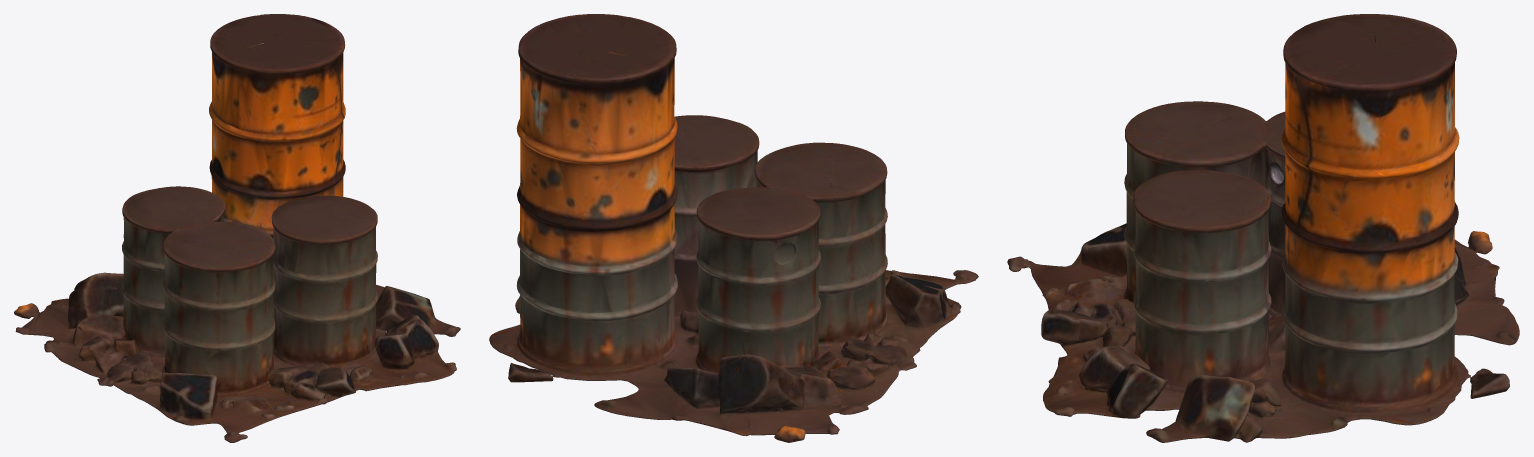
File: barrel-stack.glb
The picture shows the model from 3 angles, left to right: view 1: azimuth 30°, elevation 25°; view 2: azimuth 150°, elevation 25°; view 3: azimuth 270°, elevation 25°; orthographic projection. The views are drawn at different scales.
Size of the model in its own units: 1.82 by 1.31 by 1.85.
Materials: 1 (1 with a texture image).
